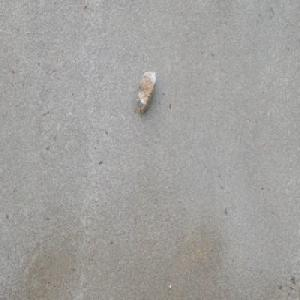Rock: (136, 69, 156, 115)
